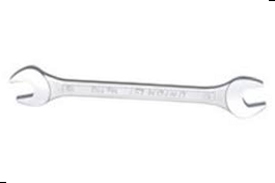Wrench: (6, 54, 269, 124)
